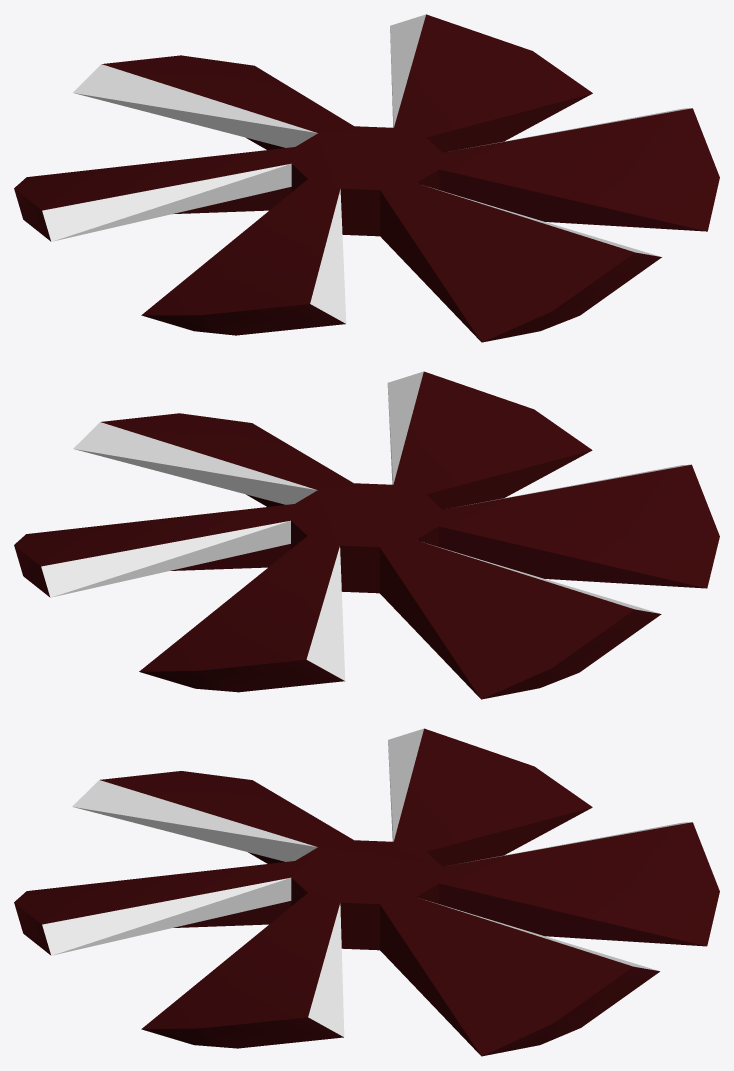
File: PropellerHD.fbx
3 views of the same model, one above another, from view 1: azimuth 30°, elevation 25°; view 2: azimuth 150°, elevation 25°; view 3: azimuth 270°, elevation 25° (orthographic).
Parts seen in each view (by area): view 1: Propeller; view 2: Propeller; view 3: Propeller.
Boxes of the visible parts, left/top/right/bottom form: Propeller: left=14, top=14, right=719, bottom=342; Propeller: left=14, top=371, right=719, bottom=699; Propeller: left=14, top=728, right=719, bottom=1056.
Size of the model in its own units: 1309 by 94.53 by 1311.
